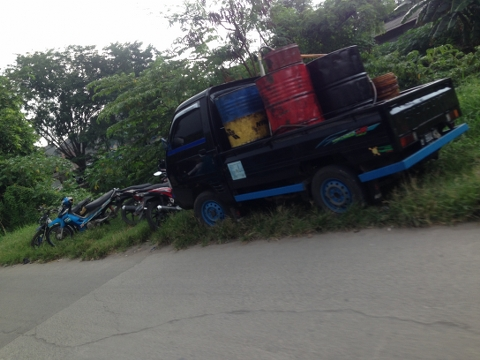mobil: (165, 75, 469, 222)
